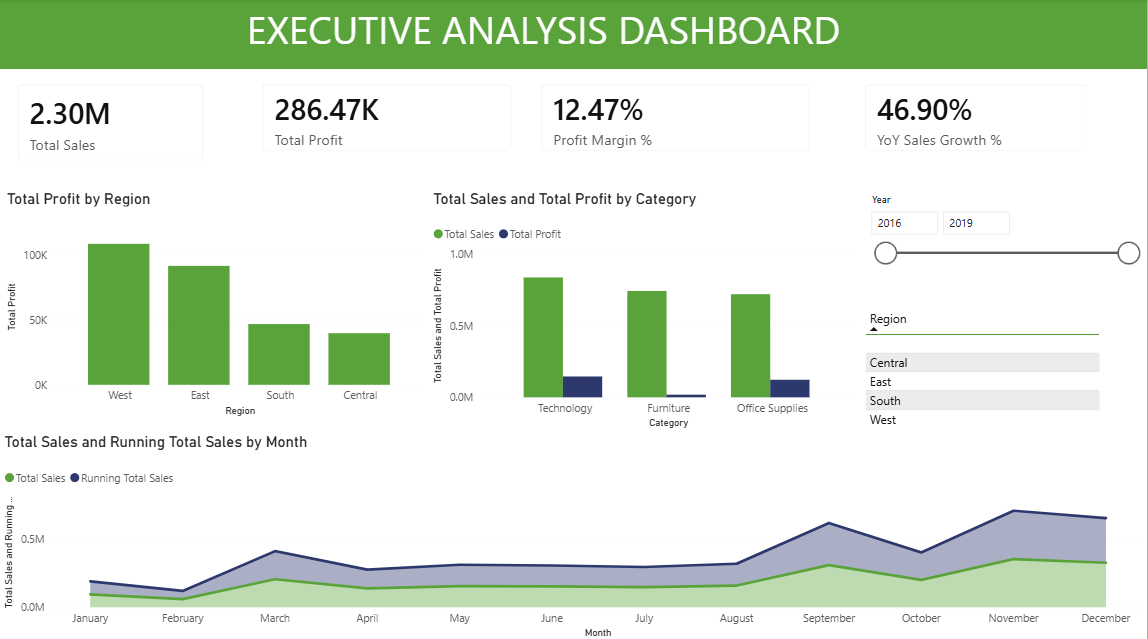

Layout of this report page (visuals, bound fields, positions):
{"tool":"powerbi","page":{"name":"Executive Analysis","canvas":[1280,720],"ordinal":0},"visuals":[{"type":"cardVisual","fields":{"Data":["_Measures.Total Sales"]},"box":[2.8,79.5,241.3,119.9],"z":0},{"type":"cardVisual","fields":{"Data":["_Measures.Total Profit"]},"box":[276.1,79.5,311,108.8],"z":1000},{"type":"cardVisual","fields":{"Data":["_Measures.Profit Margin %"]},"box":[587.1,79.5,333.3,108.8],"z":2000},{"type":"cardVisual","fields":{"Data":["_Measures.YoY Sales Growth %"]},"box":[948.4,79.5,280.3,108.8],"z":3000},{"type":"stackedAreaChart","fields":{"Category":["Orders.Order Date.Variation.Date Hierarchy.Year","Orders.Order Date.Variation.Date Hierarchy.Quarter","Orders.Order Date.Variation.Date Hierarchy.Month","Orders.Order Date.Variation.Date Hierarchy.Day"],"Y":["_Measures.Total Sales","_Measures.Running Total Sales"]},"box":[0,485.3,1280.3,234.3],"z":4000},{"type":"clusteredColumnChart","fields":{"Y":["_Measures.Total Profit"],"Category":["Orders.Region"]},"box":[2.8,213.4,476.2,258],"z":5000},{"type":"tableEx","fields":{"Values":["Orders.Region"]},"box":[959.5,341.7,320.8,159],"z":6000},{"type":"slicer","fields":{"Values":["Orders.Order Date.Variation.Date Hierarchy.Year"]},"box":[959.5,213.4,320.8,124.1],"z":7000},{"type":"shape","box":[0,0,1280.3,79.6],"z":8000},{"type":"clusteredColumnChart","fields":{"Category":["Orders.Category"],"Y":["_Measures.Total Sales","_Measures.Total Profit"]},"box":[478.4,213.4,481.2,272],"z":9000},{"type":"textbox","box":[124.1,0,965.1,71.1],"z":10000}]}

Visuals, with their boxes in screenshot pixels (x1, y1, x2, y2), scaled from the page's 1280x720 canvas onto the 1148x639 screenshot:
cardVisual - _Measures.Total Sales: (left=3, top=71, right=219, bottom=177)
cardVisual - _Measures.Total Profit: (left=248, top=71, right=527, bottom=167)
cardVisual - _Measures.Profit Margin %: (left=527, top=71, right=825, bottom=167)
cardVisual - _Measures.YoY Sales Growth %: (left=851, top=71, right=1102, bottom=167)
stackedAreaChart - Orders.Order Date.Variation.Date Hierarchy.Year x Orders.Order Date.Variation.Date Hierarchy.Quarter: (left=0, top=431, right=1147, bottom=638)
clusteredColumnChart - _Measures.Total Profit x Orders.Region: (left=3, top=189, right=430, bottom=418)
tableEx - Orders.Region: (left=861, top=303, right=1147, bottom=444)
slicer - Orders.Order Date.Variation.Date Hierarchy.Year: (left=861, top=189, right=1147, bottom=300)
shape: (left=0, top=0, right=1147, bottom=71)
clusteredColumnChart - Orders.Category x _Measures.Total Sales: (left=429, top=189, right=861, bottom=431)
textbox: (left=111, top=0, right=977, bottom=63)
